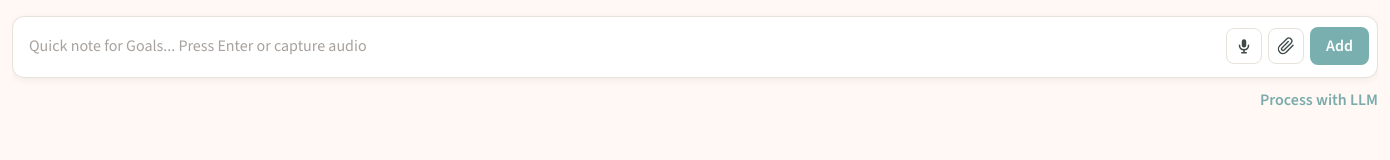
Test: CaptureForm › switches Record to Stop and shows a listening status
Click the 1st button at [1244, 46], box [1226, 28, 1262, 64]
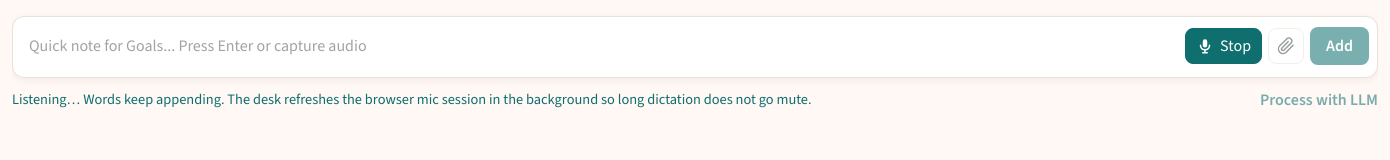
Expected: the button "Stop" is shown
Expected: the text "Listening…" is shown, [12, 90, 812, 109]
Expected: the text "Words keep appending" is shown, [12, 90, 812, 109]
Click the button "Stop" at [1224, 46], box [1185, 28, 1262, 64]
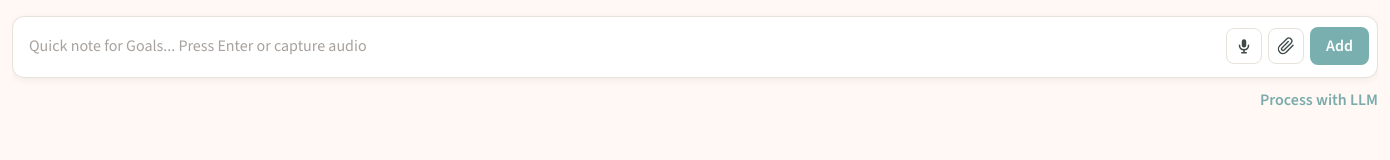
Expected: the text "Listening…" is gone
